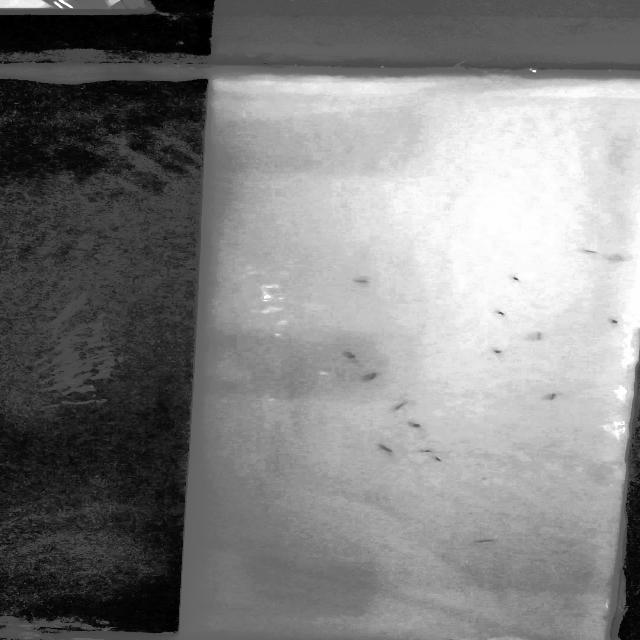shrimp: (495, 270, 536, 288), (361, 370, 402, 388), (399, 418, 435, 438), (376, 440, 406, 460), (422, 453, 458, 468), (484, 343, 508, 361), (338, 348, 364, 364), (489, 305, 515, 321), (603, 315, 626, 328)
